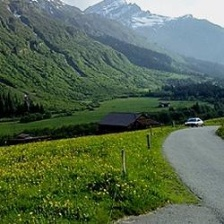neutral: (2, 1, 221, 224)
